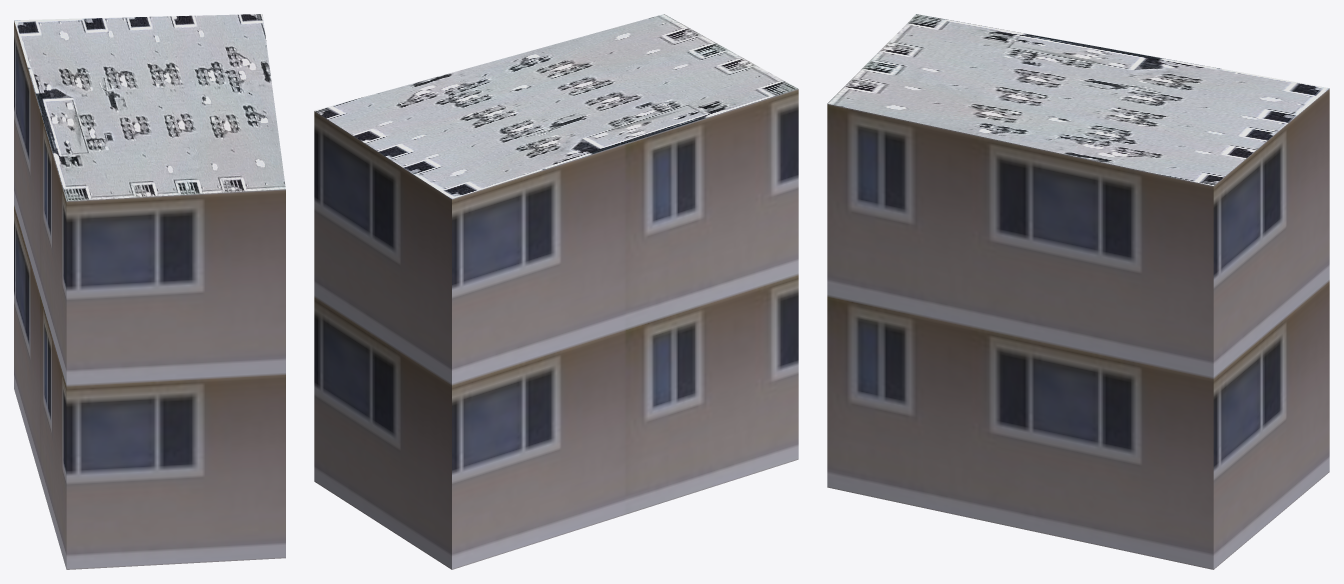
The model's file is ResTex__2724.fbx.
3 views of the same model, side by side, from view 1: azimuth 30°, elevation 25°; view 2: azimuth 150°, elevation 25°; view 3: azimuth 270°, elevation 25° (orthographic). The views are drawn at different scales.
Parts seen in each view (by area): view 1: CityEngineMaterial_21_m, CityEngineMaterial_m; view 2: CityEngineMaterial_21_m, CityEngineMaterial_m; view 3: CityEngineMaterial_21_m, CityEngineMaterial_m.
Part boxes in pixels (x1,y1,x2,y2): CityEngineMaterial_21_m: (14, 21, 285, 569); CityEngineMaterial_m: (14, 14, 285, 201); CityEngineMaterial_21_m: (314, 89, 798, 569); CityEngineMaterial_m: (314, 14, 798, 198); CityEngineMaterial_21_m: (827, 88, 1329, 569); CityEngineMaterial_m: (827, 14, 1329, 185).
Size of the model in its own units: 5.77 by 6 by 7.12.
Materials: 2 (2 with a texture image).
